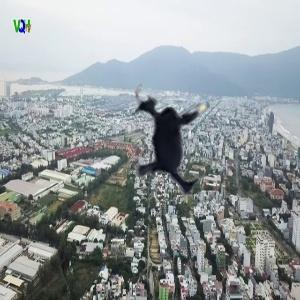drone: (99, 65, 252, 218)
